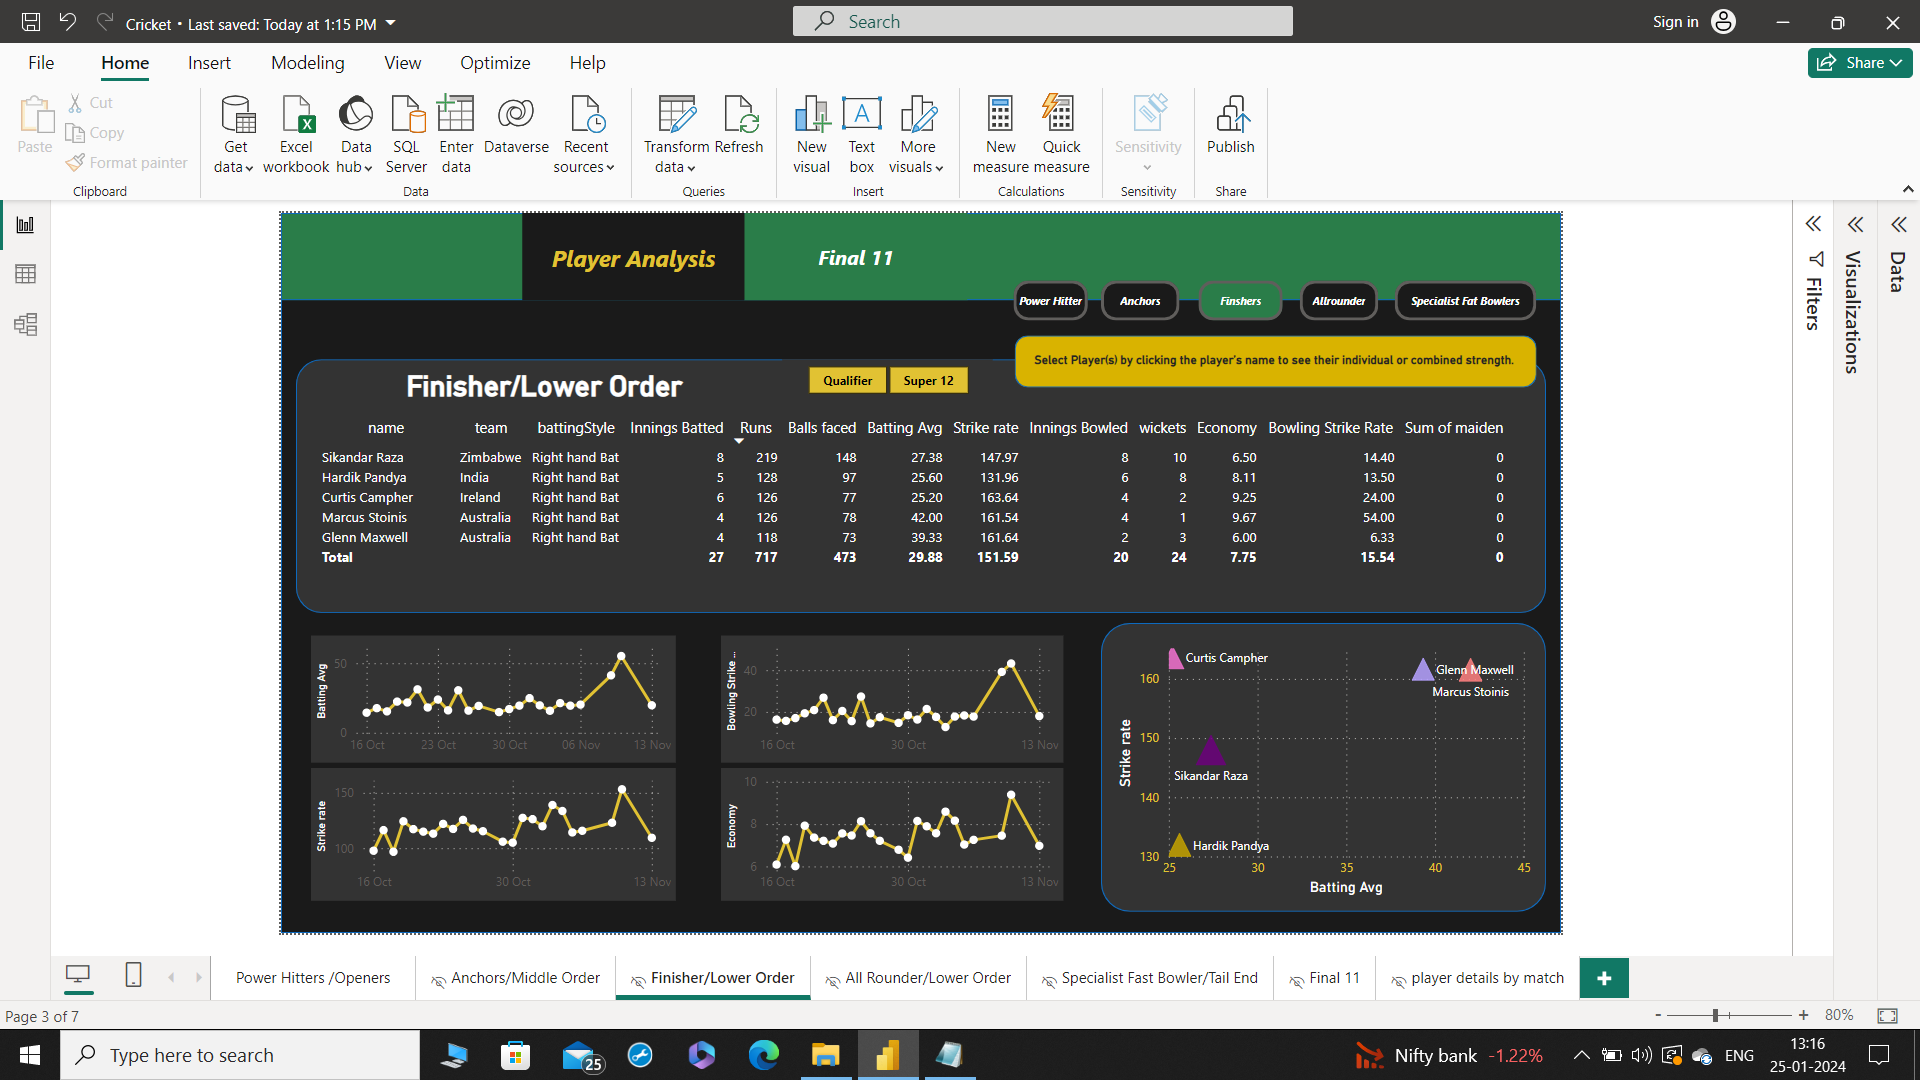

This screenshot's page, from the dashboard's own definition file:
{"tool":"powerbi","page":{"name":"Finisher/Lower Order","canvas":[1280,720],"ordinal":2},"visuals":[{"type":"shape","box":[0,78.8,1280,641.2],"z":0},{"type":"shape","box":[0,0,1280,87.1],"z":1000},{"type":"lineChart","fields":{"Y":["Key Measures.Batting Avg"],"Category":["dim_match_summary.matchDate"]},"box":[30,422.5,365,127.5],"z":2000},{"type":"lineChart","fields":{"Y":["Key Measures.Strike rate"],"Category":["dim_match_summary.matchDate"]},"box":[30,555,365,132.5],"z":3000},{"type":"lineChart","fields":{"Y":["Key Measures.Economy"],"Category":["dim_match_summary.matchDate"]},"box":[440,555,342.5,132.5],"z":4000},{"type":"lineChart","fields":{"Y":["Key Measures.Bowling Strike Rate"],"Category":["dim_match_summary.matchDate"]},"box":[440,422.5,342.5,127.5],"z":5000},{"type":"actionButton","box":[241.2,0,222.5,87.5],"z":6000},{"type":"shape","box":[820,410,445,288.8],"z":7000},{"type":"actionButton","box":[463.8,0,222.5,87.5],"z":8000},{"type":"actionButton","box":[732.9,67.1,74.3,40],"z":9000},{"type":"shape","box":[15,146.2,1250,253.8],"z":10000},{"type":"actionButton","box":[820,67.1,78.6,40],"z":11000},{"type":"actionButton","box":[917.1,67.1,84.3,40],"z":12000},{"type":"actionButton","box":[1114.3,67.1,141.4,40],"z":13000},{"type":"slicer","fields":{"Values":["dim_match_summary.stage"]},"box":[501.2,146.2,210,41.2],"z":15000},{"type":"scatterChart","fields":{"X":["Key Measures.Batting Avg"],"Y":["Key Measures.Strike rate"],"Category":["dim_players.name"],"Series":["dim_players.name"],"Size":["Key Measures.Total Runs"]},"box":[831.2,422.5,423.8,265],"z":16000},{"type":"textbox","box":[105.7,151.4,314.3,45.7],"z":17000},{"type":"tableEx","title":"Shortlisted Based On Criteria","fields":{"Values":["dim_players.name","dim_players.team","dim_players.battingStyle","Key Measures.Total Innings Batted","Key Measures.Total Runs","Key Measures.total balls faced","Key Measures.Batting Avg","Key Measures.Strike rate","Key Measures.Total Innings Bowled","Key Measures.wickets","Key Measures.Economy","Key Measures.Bowling Strike Rate"]},"box":[30,197.1,1225.7,192.9],"z":18000},{"type":"actionButton","box":[1018.6,67.1,78.6,40],"z":19000},{"type":"shape","box":[733.1,122.5,521.9,51.9],"z":19001},{"type":"textbox","title":"Combined Strength","box":[755,137.5,162.5,21.2],"z":19002},{"type":"card","fields":{"Values":["Key Measures.Batting Avg"]},"box":[940,122.1,62.9,51.4],"z":19003},{"type":"card","fields":{"Values":["Key Measures.Strike rate"]},"box":[1008.6,122.1,62.9,51.4],"z":19004},{"type":"card","fields":{"Values":["Key Measures.Average Balls Faced"]},"box":[1077.1,122.9,62.9,51.4],"z":19005},{"type":"card","fields":{"Values":["Key Measures.Bowling Strike Rate"]},"box":[1147.1,122.1,68.6,51.4],"z":19006},{"type":"card","fields":{"Values":["Key Measures.Display Text"]},"box":[746.2,132.5,493.8,32.5],"z":19007}]}

Visuals, with their boxes on the page's 1280x720 design canvas (x1, y1, x2, y2). These are canvas units, not pixel positions in the 1920x1080 screenshot, which may show the page scaled, cropped or inside an application window:
shape: bbox=[0, 79, 1280, 720]
shape: bbox=[0, 0, 1280, 87]
lineChart - Key Measures.Batting Avg x dim_match_summary.matchDate: bbox=[30, 422, 395, 550]
lineChart - Key Measures.Strike rate x dim_match_summary.matchDate: bbox=[30, 555, 395, 688]
lineChart - Key Measures.Economy x dim_match_summary.matchDate: bbox=[440, 555, 782, 688]
lineChart - Key Measures.Bowling Strike Rate x dim_match_summary.matchDate: bbox=[440, 422, 782, 550]
actionButton: bbox=[241, 0, 464, 88]
shape: bbox=[820, 410, 1265, 699]
actionButton: bbox=[464, 0, 686, 88]
actionButton: bbox=[733, 67, 807, 107]
shape: bbox=[15, 146, 1265, 400]
actionButton: bbox=[820, 67, 899, 107]
actionButton: bbox=[917, 67, 1001, 107]
actionButton: bbox=[1114, 67, 1256, 107]
slicer - dim_match_summary.stage: bbox=[501, 146, 711, 187]
scatterChart - Key Measures.Batting Avg x Key Measures.Strike rate: bbox=[831, 422, 1255, 688]
textbox: bbox=[106, 151, 420, 197]
"Shortlisted Based On Criteria" tableEx: bbox=[30, 197, 1256, 390]
actionButton: bbox=[1019, 67, 1097, 107]
shape: bbox=[733, 122, 1255, 174]
"Combined Strength" textbox: bbox=[755, 138, 918, 159]
card - Key Measures.Batting Avg: bbox=[940, 122, 1003, 174]
card - Key Measures.Strike rate: bbox=[1009, 122, 1072, 174]
card - Key Measures.Average Balls Faced: bbox=[1077, 123, 1140, 174]
card - Key Measures.Bowling Strike Rate: bbox=[1147, 122, 1216, 174]
card - Key Measures.Display Text: bbox=[746, 132, 1240, 165]
